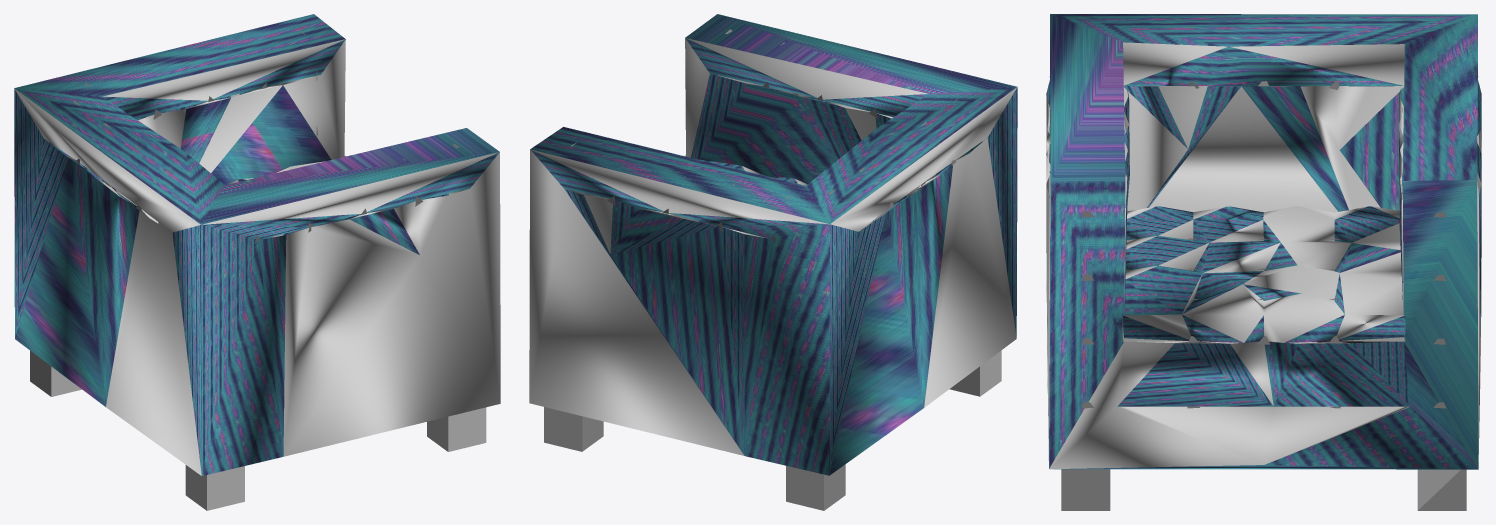
3 views of the same model, side by side, from view 1: azimuth 30°, elevation 25°; view 2: azimuth 150°, elevation 25°; view 3: azimuth 270°, elevation 25° (orthographic). The views are drawn at different scales.
Parts seen in each view (by area): view 1: mesh25.186_mesh25-geometry; view 2: mesh25.186_mesh25-geometry; view 3: mesh25.186_mesh25-geometry.
Boxes of the visible parts, x1,y1,x2,y2 form: mesh25.186_mesh25-geometry: (14, 14, 500, 510); mesh25.186_mesh25-geometry: (529, 14, 1017, 510); mesh25.186_mesh25-geometry: (1046, 14, 1481, 510).
Bounding box in the file's own units: 0.5765 × 0.5323 × 0.6222.
